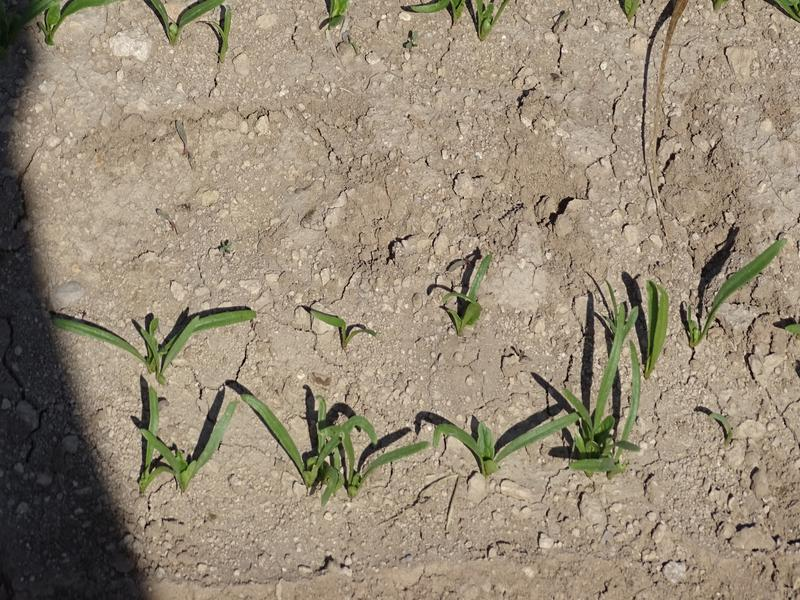Espinaca: (75, 302, 242, 484), (247, 383, 428, 501), (554, 291, 673, 468), (678, 243, 781, 349), (448, 401, 567, 489), (148, 1, 240, 54), (443, 255, 498, 337), (26, 2, 122, 41), (419, 1, 500, 45), (307, 307, 374, 354), (329, 1, 360, 34)
